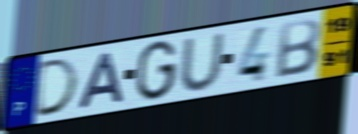4: (234, 25, 272, 85)
A: (74, 50, 127, 112)
B: (272, 17, 323, 80)
D: (32, 55, 82, 120)
G: (133, 39, 179, 103)
U: (178, 30, 227, 93)
